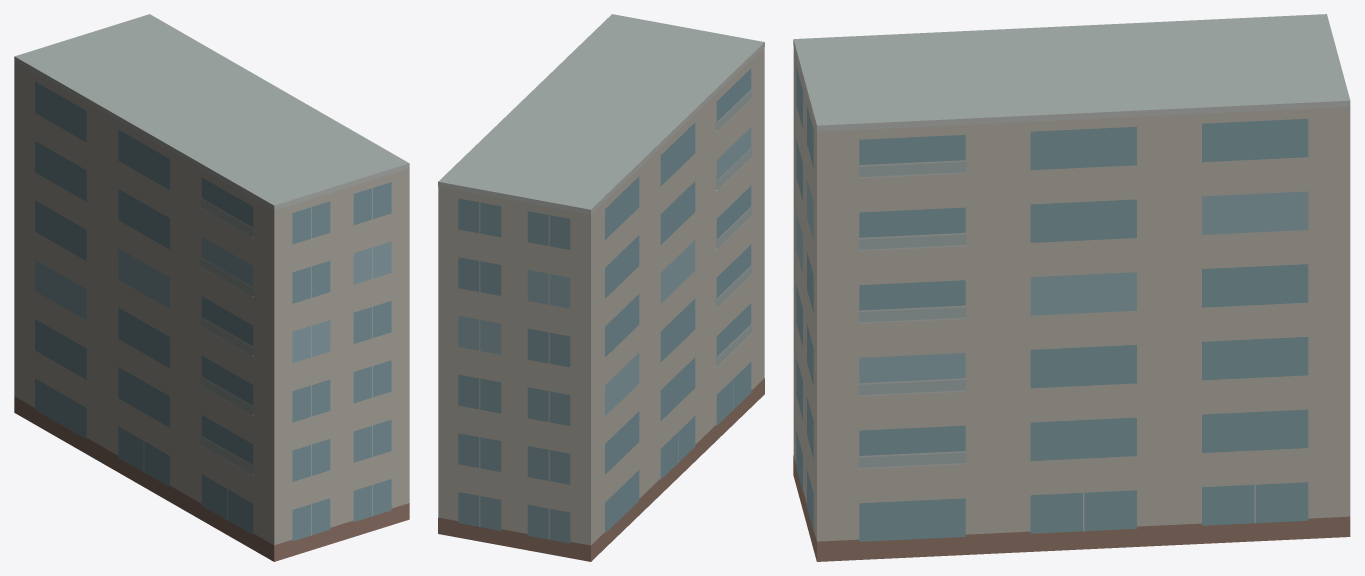
The model's file is survey-upis-32989724.glb.
3 views of the same model, side by side, from view 1: azimuth 30°, elevation 25°; view 2: azimuth 150°, elevation 25°; view 3: azimuth 270°, elevation 25° (orthographic). The views are drawn at different scales.
Parts seen in each view (by area): view 1: survey-upis-32989724.tmp; view 2: survey-upis-32989724.tmp; view 3: survey-upis-32989724.tmp.
Boxes of the visible parts, x1,y1,x2,y2 form: survey-upis-32989724.tmp: (14, 14, 409, 561); survey-upis-32989724.tmp: (438, 14, 764, 561); survey-upis-32989724.tmp: (793, 14, 1350, 561).
Bounding box in the file's own units: 9.5 × 17.3 × 20.03.
